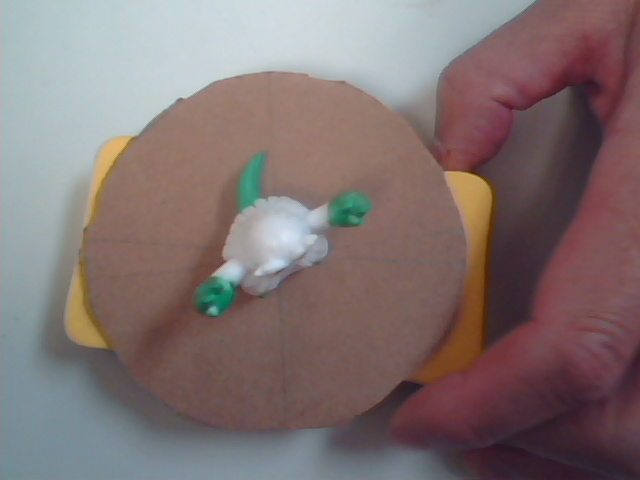abomasnow: (184, 110, 416, 336)
